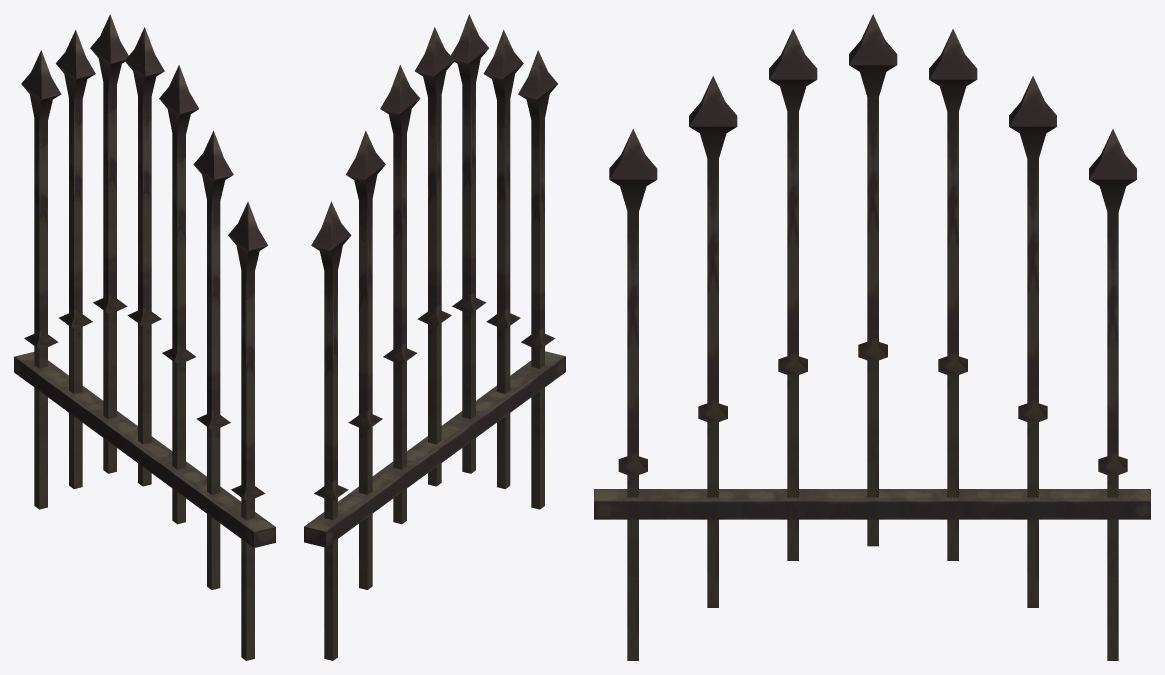
Rendered from SpikeDoor.fbx.
3 renders of one model, left to right at view 1: azimuth 30°, elevation 25°; view 2: azimuth 150°, elevation 25°; view 3: azimuth 270°, elevation 25°, orthographic. The views are drawn at different scales.
Visible parts, largest first — view 1: fenceBar, spikeFenceCentral (4), spikeFenceCentral (6), spikeFenceCentral (3), spikeFenceCentral, spikeFenceCentral (5), spikeFenceCentral (2), spikeFenceCentral (1); view 2: fenceBar, spikeFenceCentral (2), spikeFenceCentral (5), spikeFenceCentral, spikeFenceCentral (6), spikeFenceCentral (3), spikeFenceCentral (1), spikeFenceCentral (4); view 3: fenceBar, spikeFenceCentral, spikeFenceCentral (1), spikeFenceCentral (4), spikeFenceCentral (6), spikeFenceCentral (5), spikeFenceCentral (3), spikeFenceCentral (2).
Part boxes in pixels (x1,y1,x2,y2): fenceBar: (14,352,275,547); spikeFenceCentral (4): (159,65,198,524); spikeFenceCentral (6): (228,201,267,660); spikeFenceCentral (3): (21,50,61,509); spikeFenceCentral: (125,27,164,486); spikeFenceCentral (5): (193,130,233,589); spikeFenceCentral (2): (56,30,95,488); spikeFenceCentral (1): (90,14,128,473); fenceBar: (304,351,565,547); spikeFenceCentral (2): (345,130,385,589); spikeFenceCentral (5): (483,29,523,488); spikeFenceCentral: (415,27,454,486); spikeFenceCentral (6): (518,50,557,509); spikeFenceCentral (3): (311,201,351,660); spikeFenceCentral (1): (380,65,420,524); spikeFenceCentral (4): (450,14,488,473); fenceBar: (594,489,1150,519); spikeFenceCentral: (849,14,897,546); spikeFenceCentral (1): (929,29,977,560); spikeFenceCentral (4): (769,29,817,560); spikeFenceCentral (6): (609,129,657,660); spikeFenceCentral (5): (689,76,737,607); spikeFenceCentral (3): (1089,129,1136,660); spikeFenceCentral (2): (1009,76,1056,607).
Size of the model in its own units: 0.3691 by 8.89 by 6.96.
